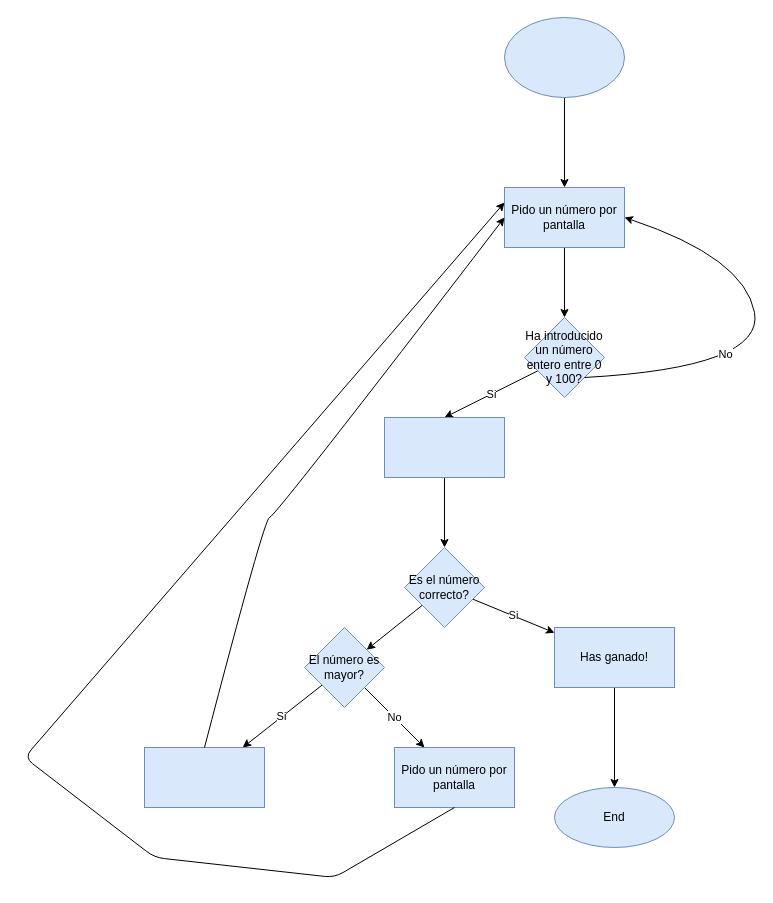
Image size: 773x903. Some labels were removed from this diagram. The box of each missing label's shape, as (x1, y1, x2, y2) in pixels:
Inicio: (504, 16, 624, 98)
Intento: (384, 416, 504, 478)
Pido un número más grande: (144, 746, 264, 808)
